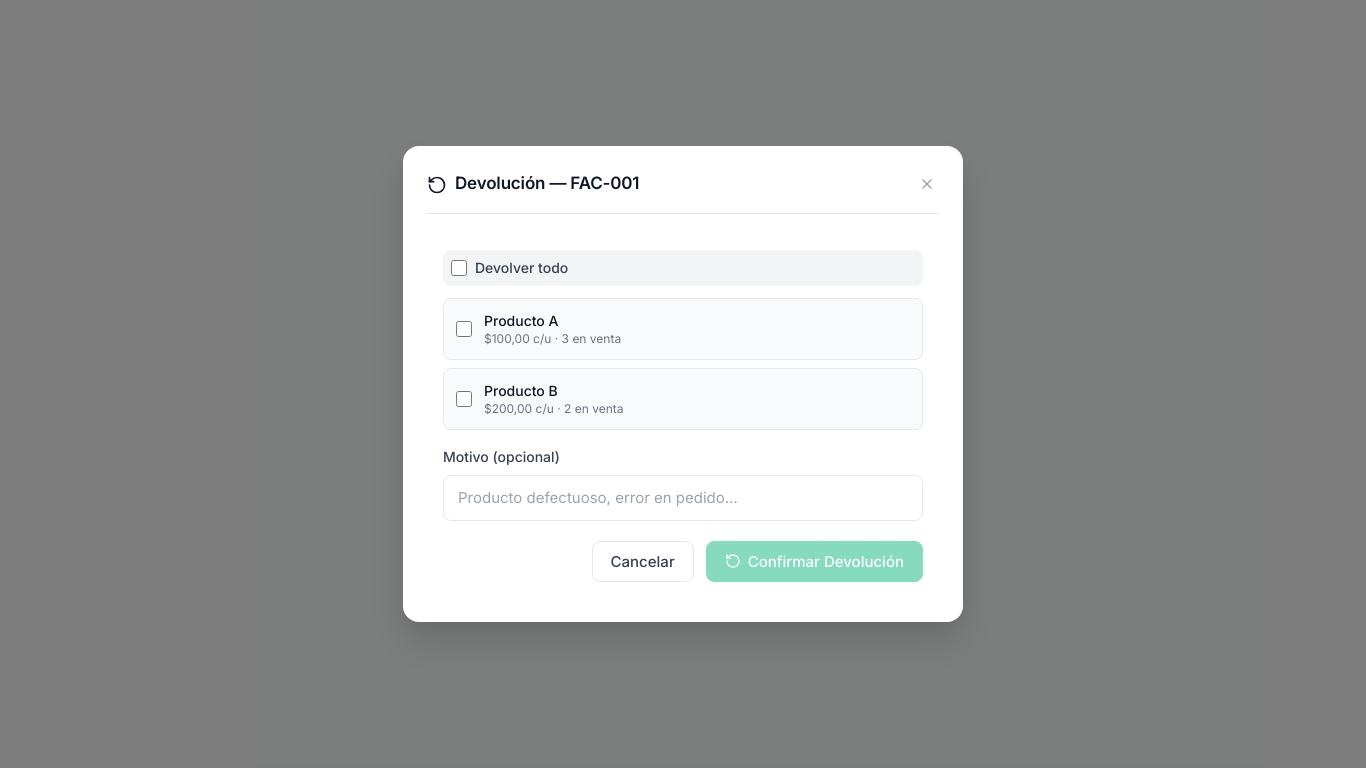
Test: ReturnModal › Devolver todo selecciona todos los items disponibles
Step 1. Click the checkbox labelled "Devolver todo" → (459, 268), box [451,260,467,276]
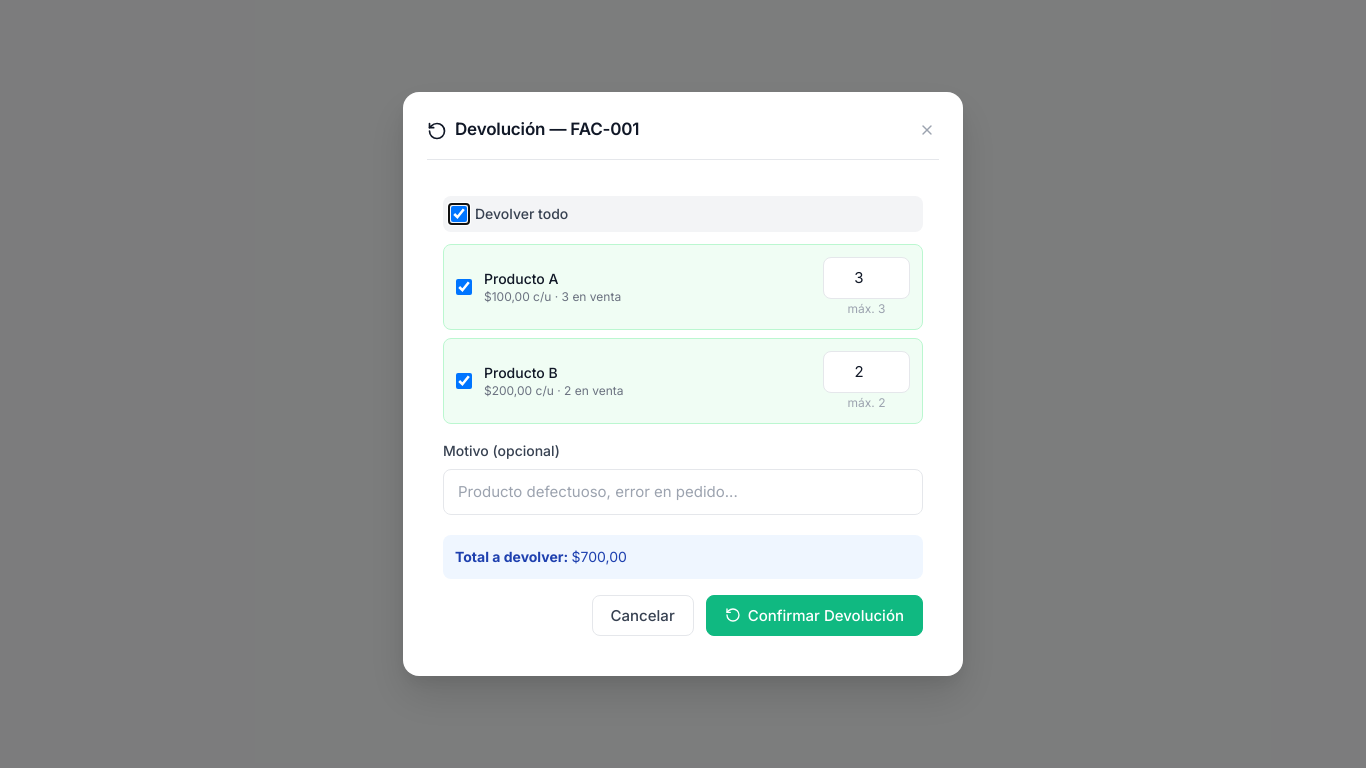
Expected: the checkbox next to "Producto A" is checked, [456,279,472,295]
Expected: the checkbox next to "Producto B" is checked, [456,373,472,389]
